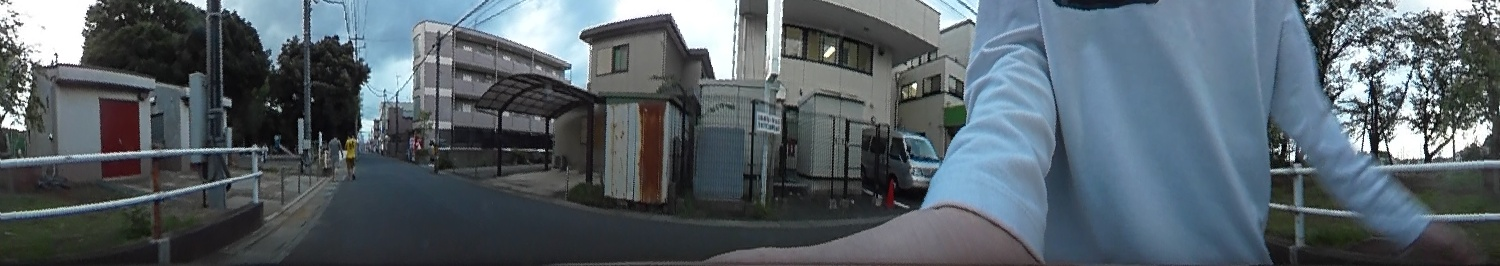difficult_person: (345, 130, 361, 180), (325, 131, 341, 178)
